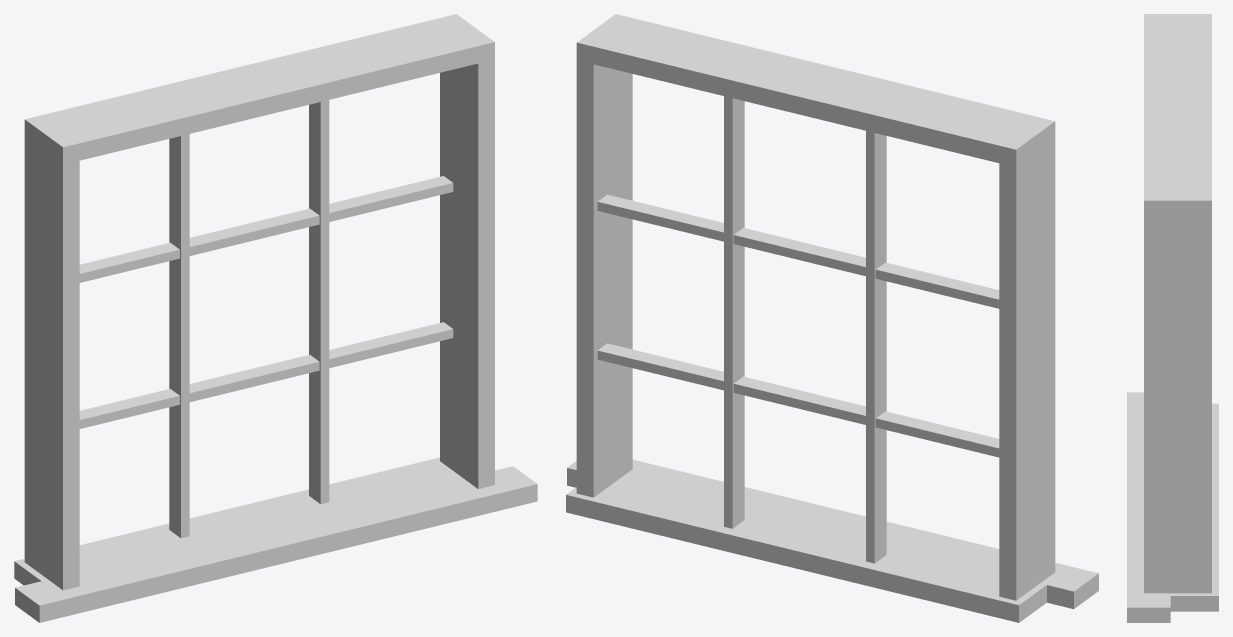
File: Window1_02.fbx
3 views of the same model, side by side, from view 1: azimuth 30°, elevation 25°; view 2: azimuth 150°, elevation 25°; view 3: azimuth 270°, elevation 25° (orthographic). The views are drawn at different scales.
Parts seen in each view (by area): view 1: Window1_02; view 2: Window1_02; view 3: Window1_02.
Part boxes in pixels (left/top/right/bottom): Window1_02: left=14, top=14, right=537, bottom=622; Window1_02: left=566, top=14, right=1098, bottom=622; Window1_02: left=1127, top=14, right=1218, bottom=622.
Size of the model in its own units: 1.5 by 1.33 by 0.27.
